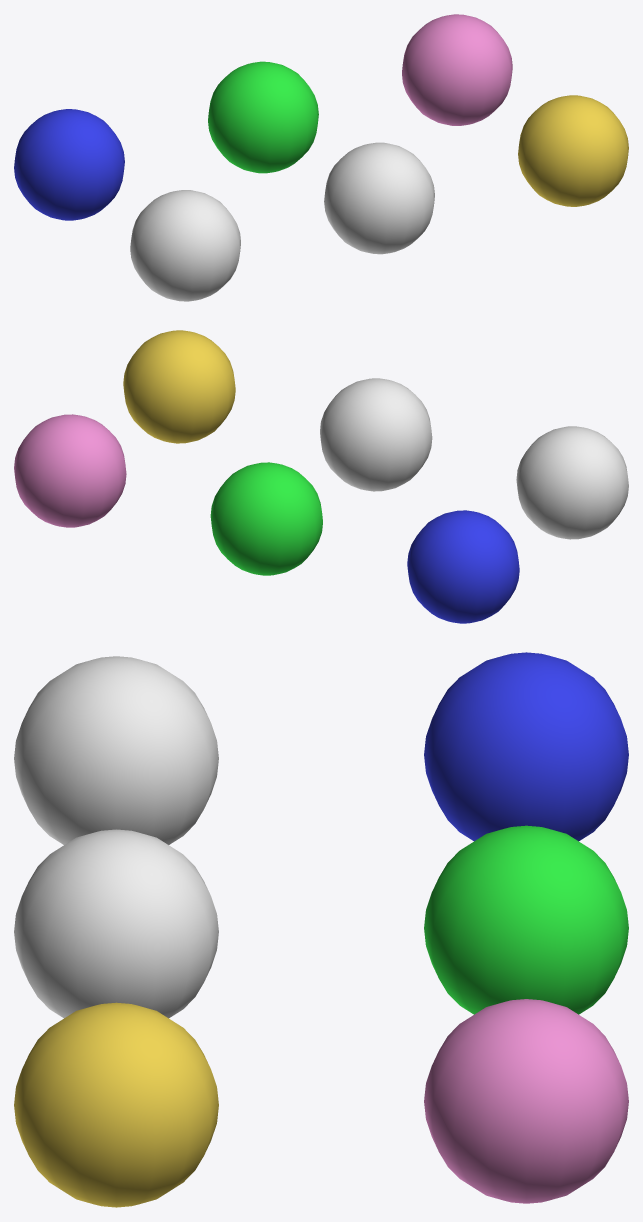
The model's file is pbr2.glb.
3 views of the same model, one above another, from view 1: azimuth 30°, elevation 25°; view 2: azimuth 150°, elevation 25°; view 3: azimuth 270°, elevation 25° (orthographic). The views are drawn at different scales.
Visible parts, largest first — view 1: Sphere, Sphere.005, Sphere.002, Sphere.004, Sphere.001, Sphere.003; view 2: Sphere, Sphere.005, Sphere.002, Sphere.004, Sphere.001, Sphere.003; view 3: Sphere, Sphere.004, Sphere.001, Sphere.003, Sphere.005, Sphere.002.
Boxes of the visible parts, x1,y1,x2,y2 form: Sphere: (518, 95, 628, 206); Sphere.005: (14, 109, 124, 220); Sphere.002: (130, 190, 240, 301); Sphere.004: (402, 14, 512, 125); Sphere.001: (324, 142, 434, 254); Sphere.003: (208, 61, 318, 173); Sphere: (123, 330, 235, 443); Sphere.005: (407, 510, 519, 623); Sphere.002: (516, 426, 628, 539); Sphere.004: (14, 414, 126, 527); Sphere.001: (320, 378, 432, 491); Sphere.003: (210, 462, 322, 575); Sphere: (14, 1002, 218, 1207); Sphere.004: (424, 999, 628, 1203); Sphere.001: (14, 829, 218, 1018); Sphere.003: (424, 825, 628, 1014); Sphere.005: (424, 652, 628, 841); Sphere.002: (14, 656, 218, 844).
Bounding box in the file's own units: 5.04 × 1 × 3.
